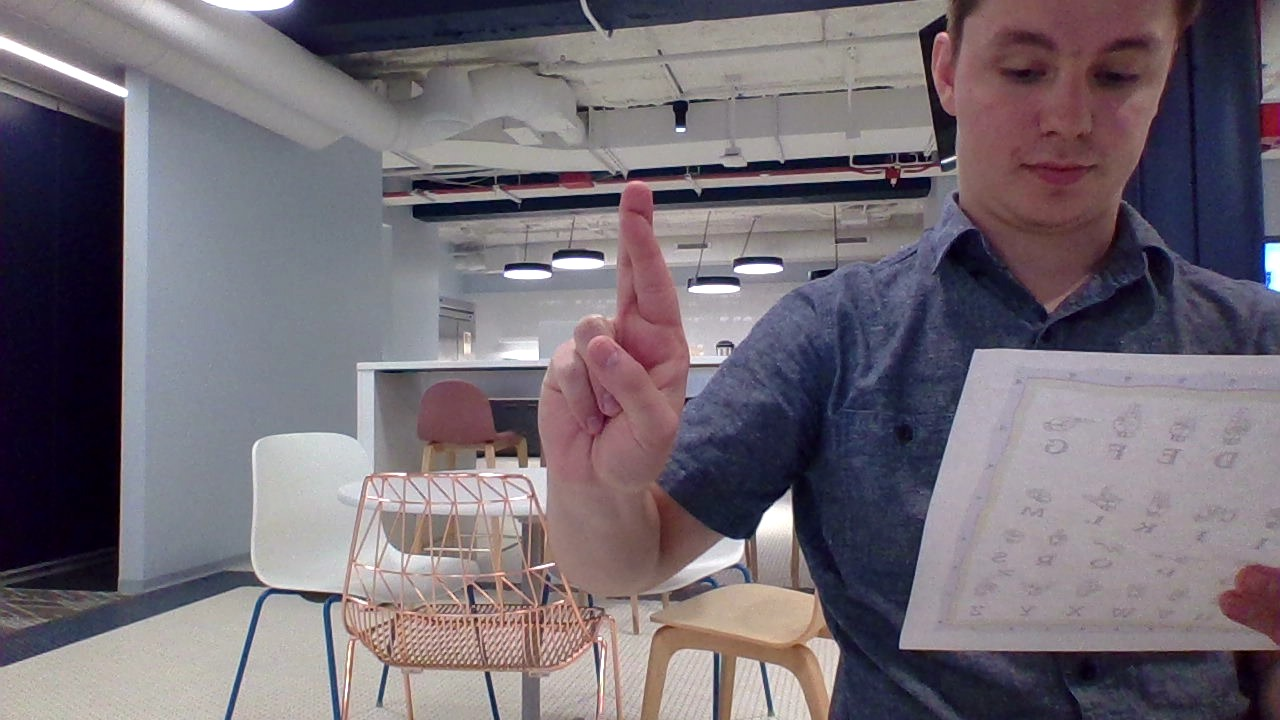r: (517, 163, 709, 512)
